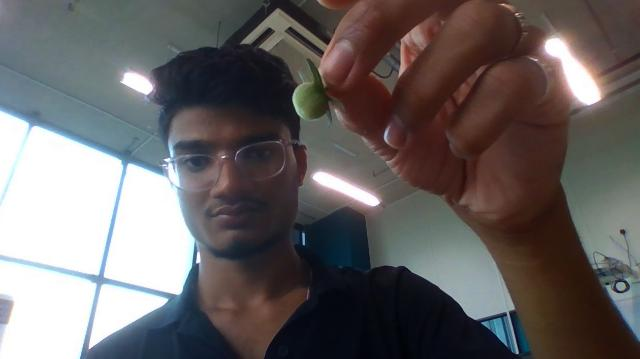Fruit Maturation: (291, 80, 330, 122)
